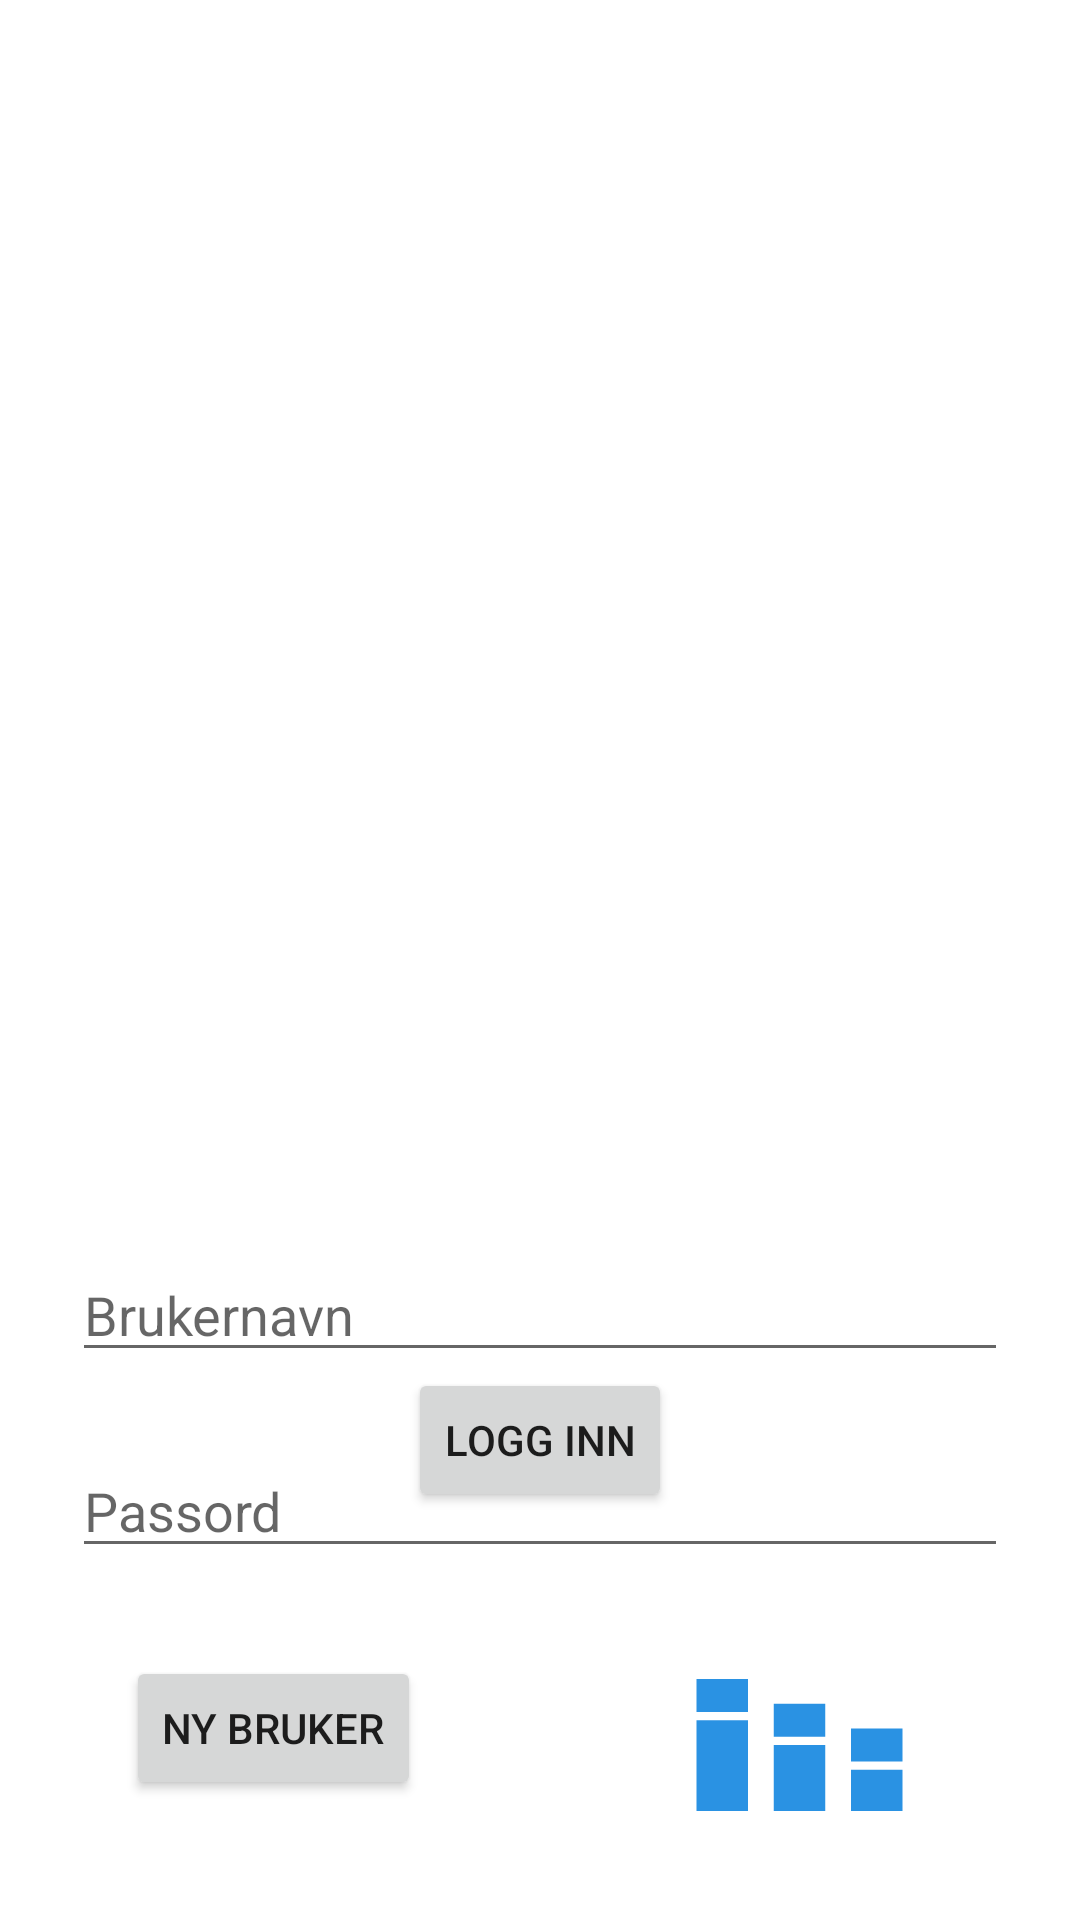

Screen size 1080w x 1920h. Icon name, then its box in pixels as (x1, y1, x2, y2):
stacked bar chart: (696, 1679, 903, 1811)
